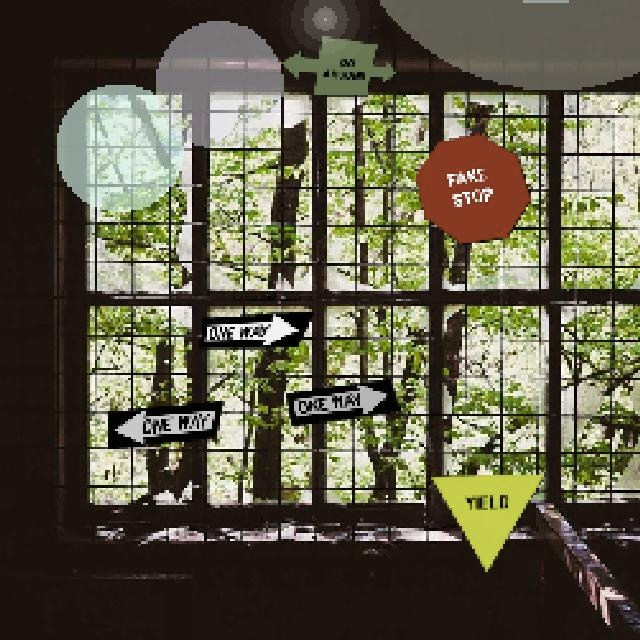FAKE_STOP: (413, 131, 530, 243)
GO_AROUND: (278, 33, 395, 95)
ONE_WAY_ left: (105, 398, 222, 448)
ONE_WAY_ right: (283, 376, 400, 425), (197, 308, 314, 347)
YIELD: (428, 471, 545, 572)
